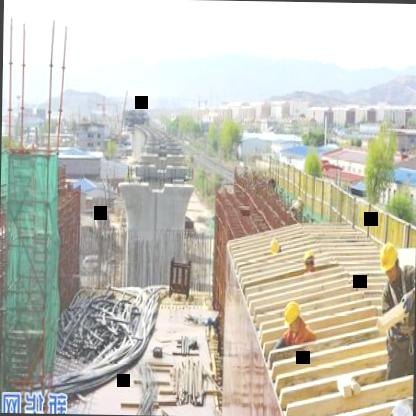helmet: (376, 239, 402, 284), (282, 296, 306, 334), (267, 234, 284, 257), (302, 249, 318, 272)
